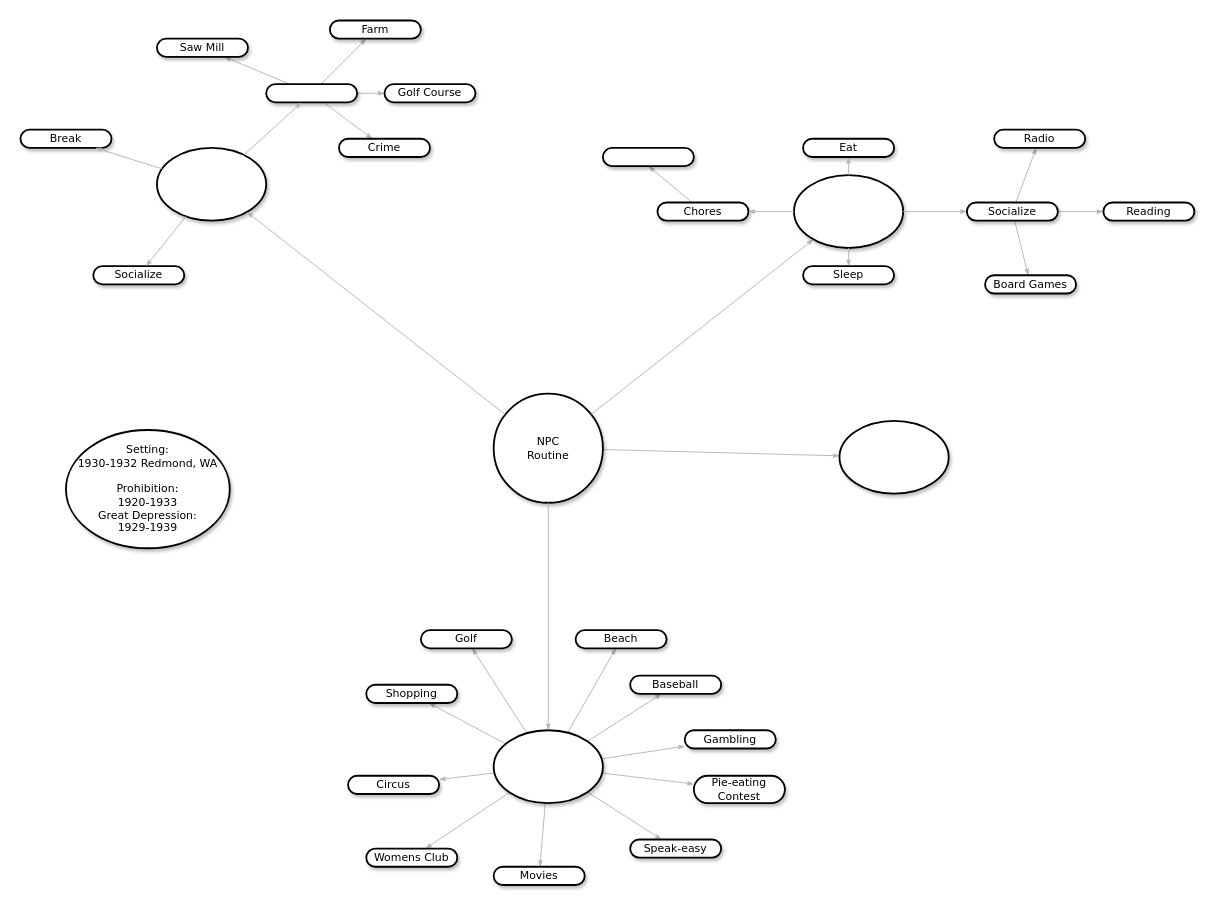
Some shapes in this 1216 by 907 pixel diagram are drawn without their labels. The centre of each missing label's shape, as x and y in pixels:
Church (Sunday): the point at 894,458
Free Time: the point at 549,767
Home: the point at 849,212
Laundry: the point at 649,158
Work: the point at 212,185
Work Tasks: the point at 312,94
